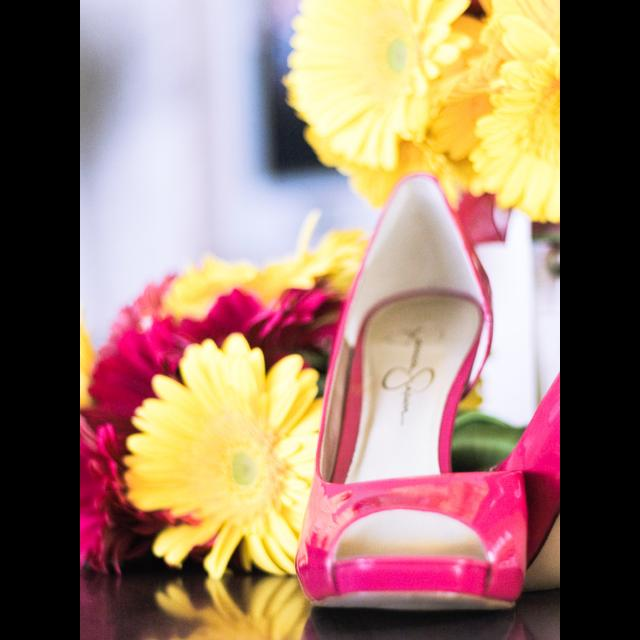Flower: (80, 213, 360, 572), (282, 0, 560, 210)
